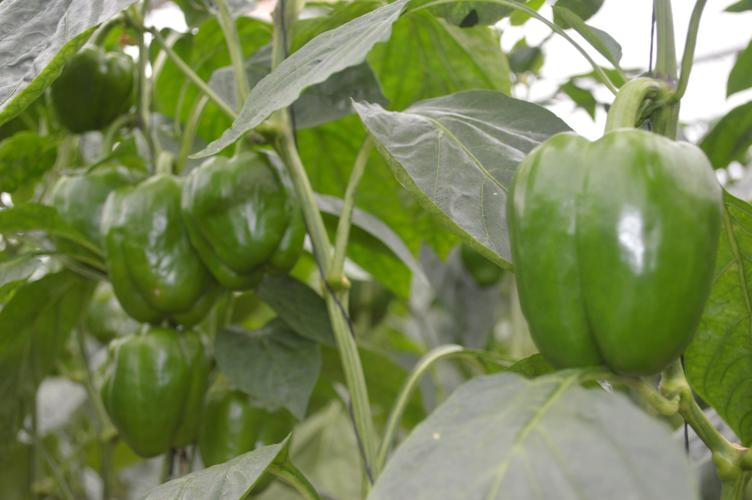BellPepper: (500, 130, 731, 372), (171, 148, 326, 291), (82, 174, 218, 332), (73, 330, 223, 458), (187, 387, 305, 485), (38, 47, 147, 136)
